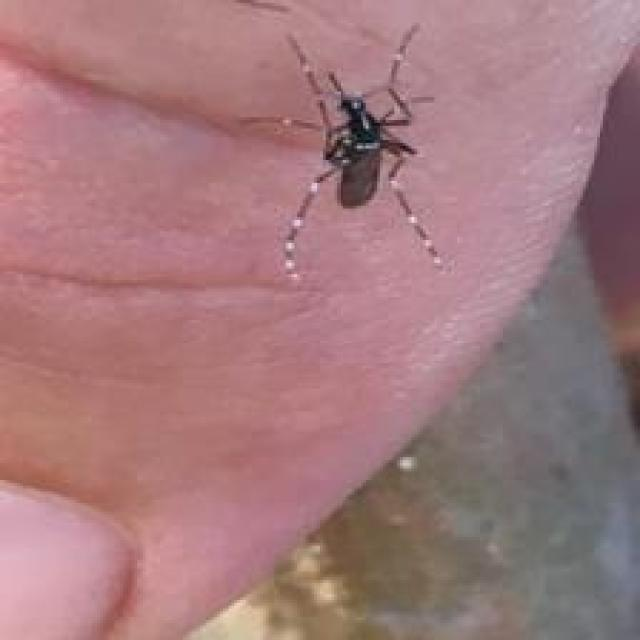Aedes albopictus: (239, 20, 447, 283)
